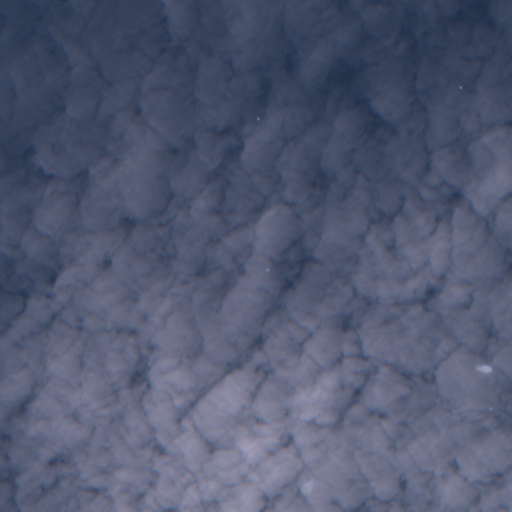Iceberg: (303, 479, 312, 493), (477, 365, 490, 371), (257, 117, 259, 120), (266, 268, 268, 271), (460, 86, 461, 88), (490, 408, 492, 409)
